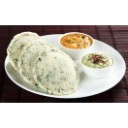idly: (35, 49, 78, 95), (20, 40, 54, 87), (9, 30, 42, 75)
